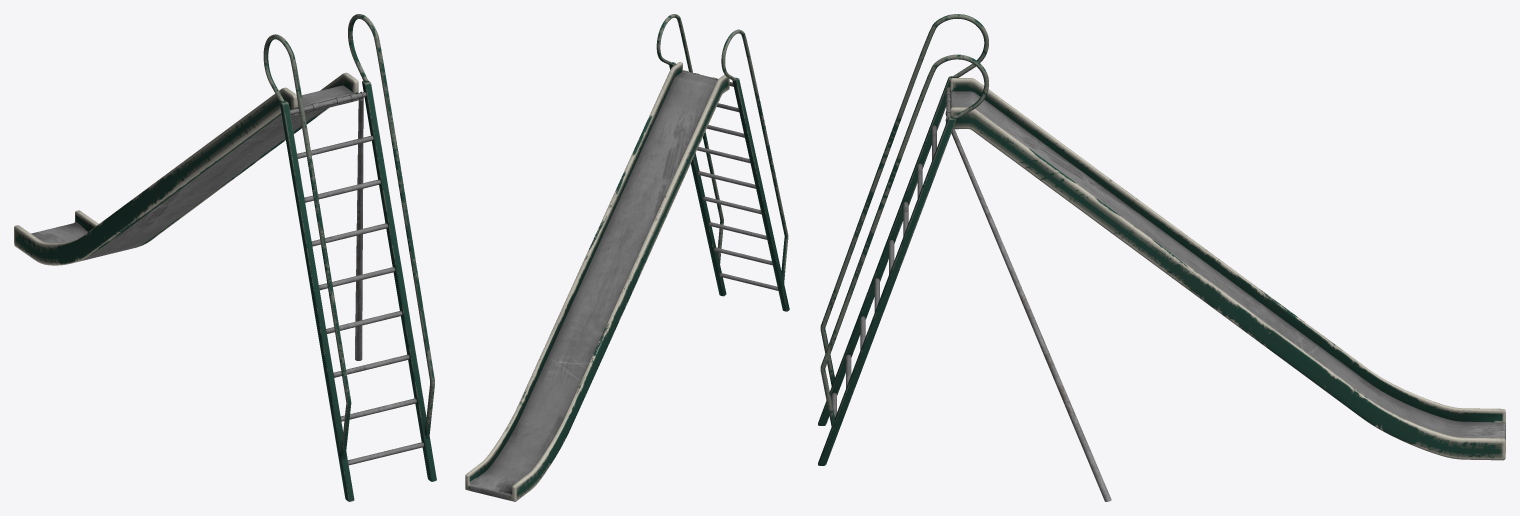
The model's file is inclined_plane_slide_playground.glb.
The picture shows the model from 3 angles, left to right: view 1: azimuth 30°, elevation 25°; view 2: azimuth 150°, elevation 25°; view 3: azimuth 270°, elevation 25°; orthographic projection. The views are drawn at different scales.
Visible parts, largest first — view 1: Playground Slide; view 2: Playground Slide; view 3: Playground Slide.
Boxes of the visible parts, box(x1,y1,x2,y2) form: Playground Slide: box(14, 14, 436, 501); Playground Slide: box(465, 14, 789, 501); Playground Slide: box(818, 14, 1505, 501).
Bounding box in the file's own units: 2.54 × 6.34 × 9.58.
1 material, 1 textured.
